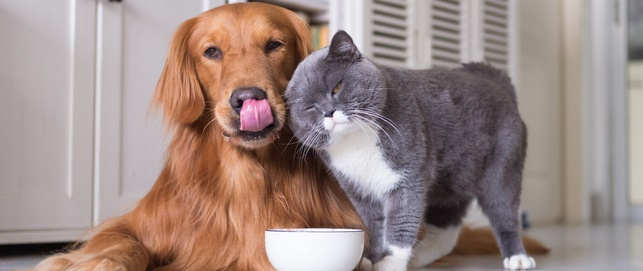pet: (162, 17, 310, 253)
